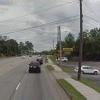Car: (26, 53, 49, 82)
